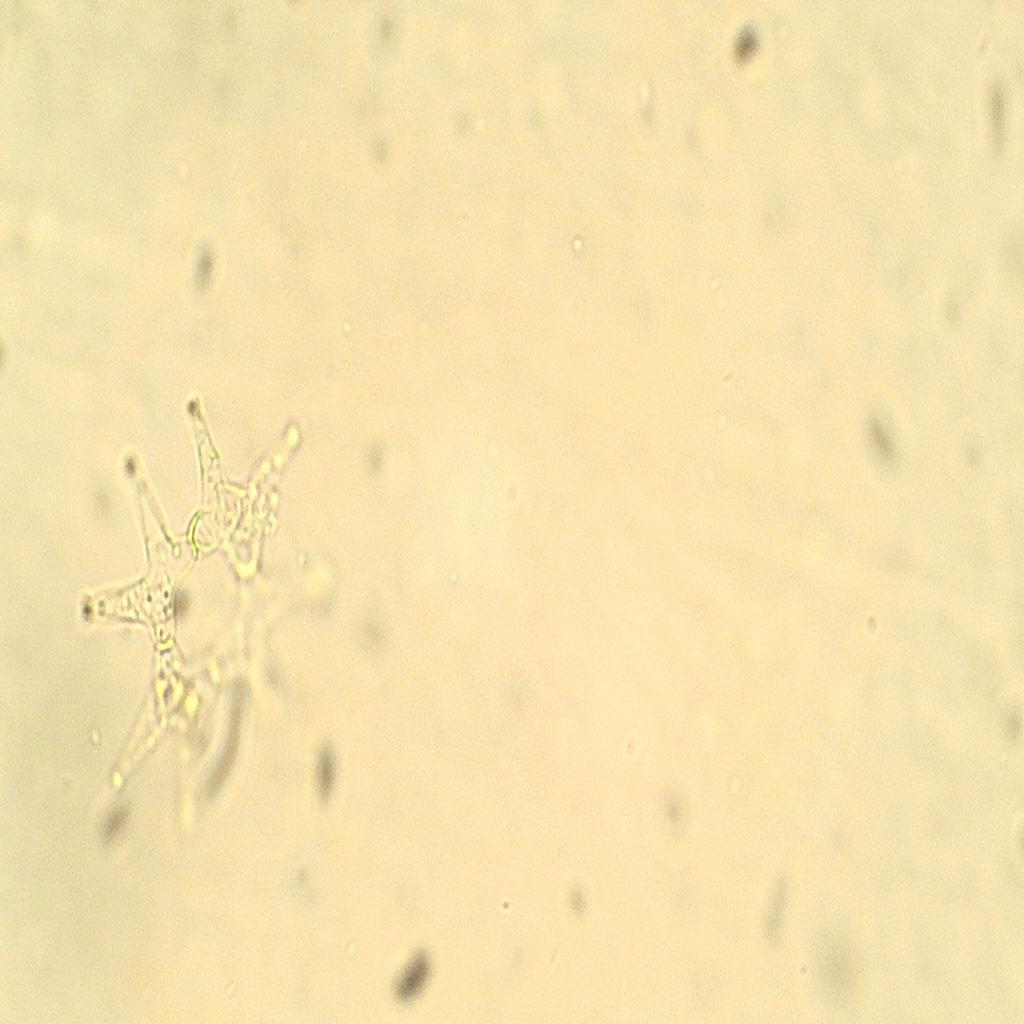Pediastrum_75TH: (63, 386, 349, 882)
